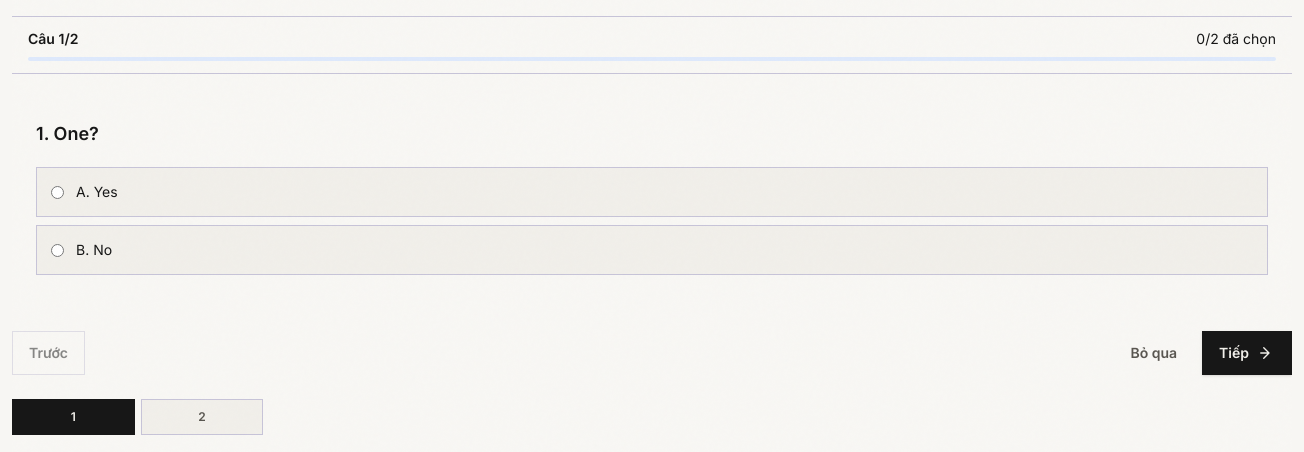
it: TestRunner › hides the answer review when revealPolicy is NEVER
Click the radio button labelled "A. Yes" at (58, 192), box [51,186,64,199]
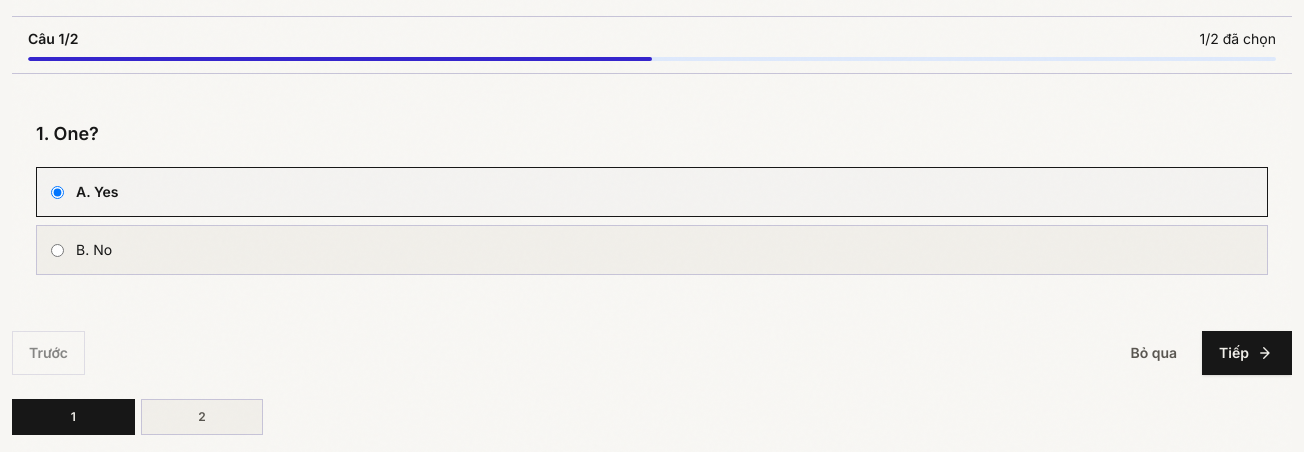
Click the button "Tiếp" at (1247, 353), box [1202,331,1292,375]
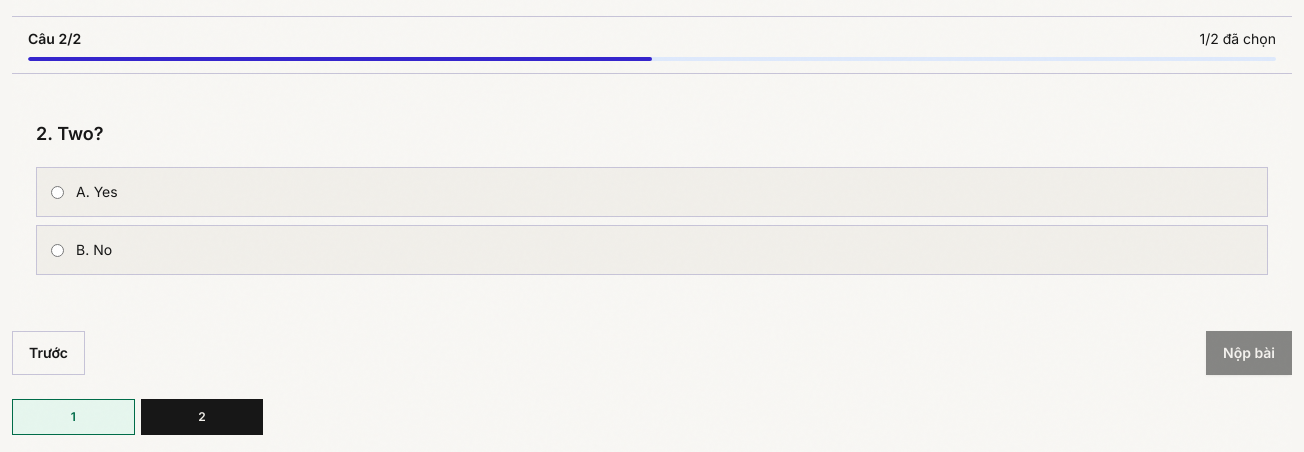
Click the radio button labelled "A. Yes" at (58, 192), box [51,186,64,199]
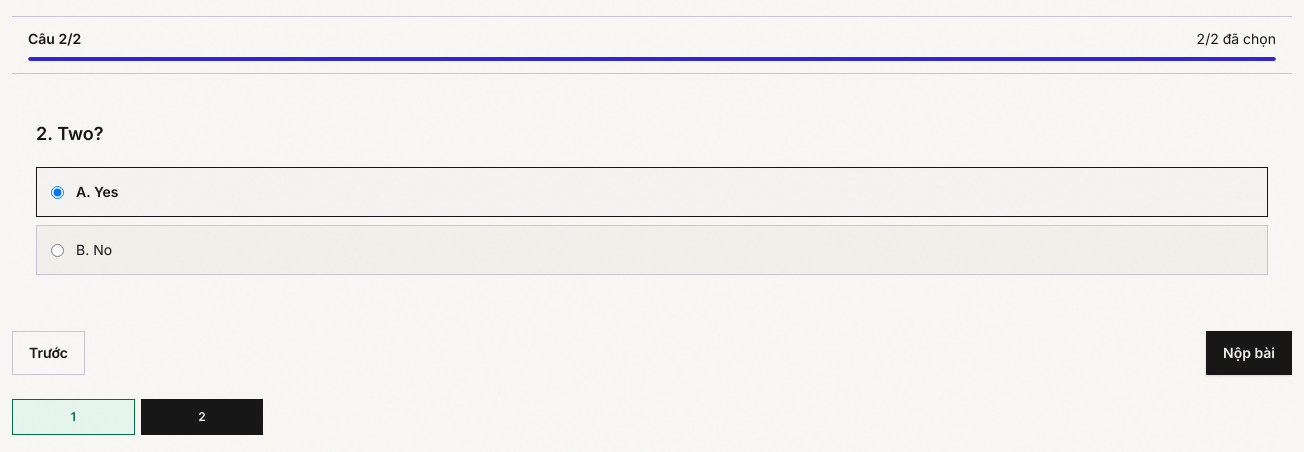
Click the button "Nộp bài" at (1249, 353), box [1206,331,1292,375]
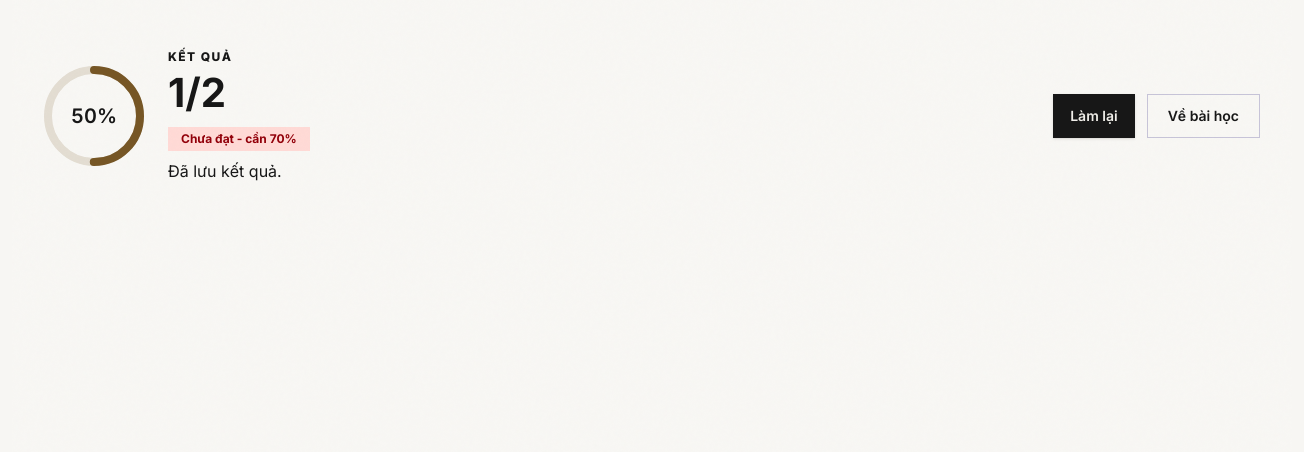
expect the element with test id "my-class-test-result" is shown: met, box [12,16,1292,215]
